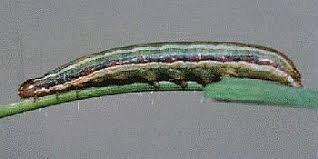Armyworm: (17, 30, 301, 115)
